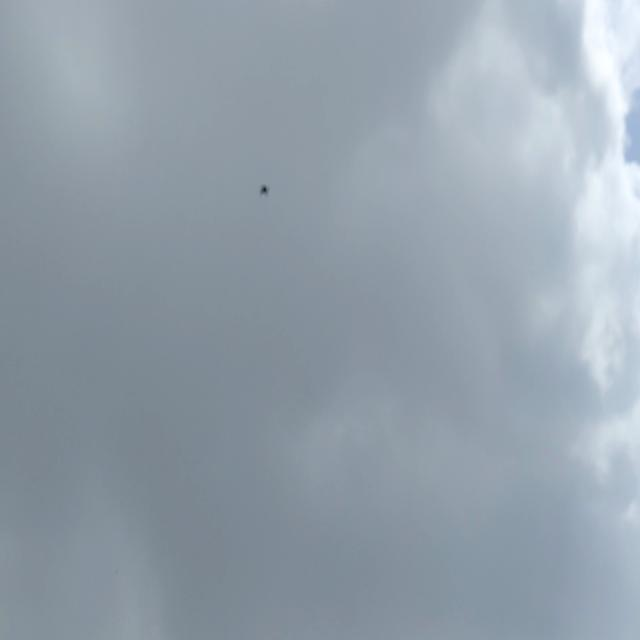drone: (256, 181, 271, 199)
